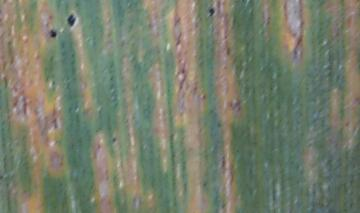tarspot: (65, 12, 78, 28), (206, 5, 217, 17), (48, 29, 57, 40), (215, 120, 222, 128), (111, 137, 116, 143)
